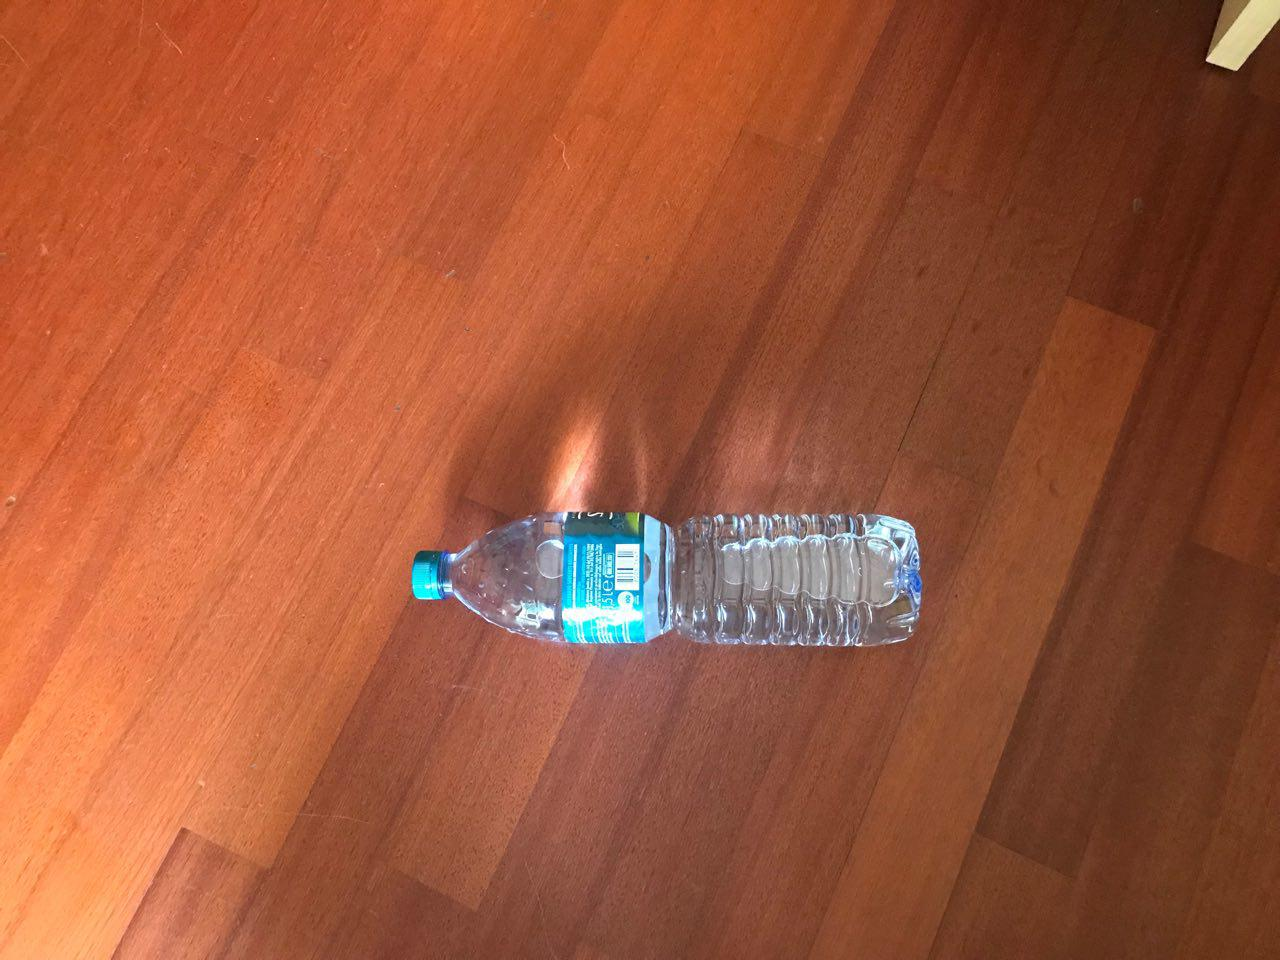san_bernardo: (410, 510, 922, 649)
